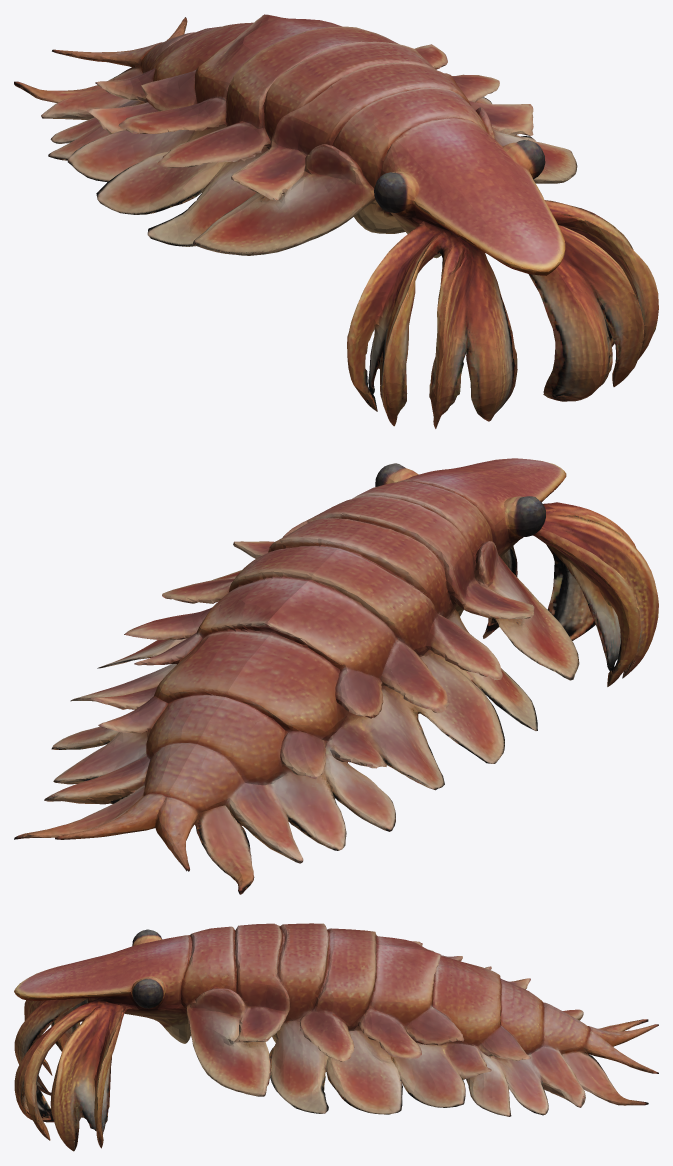
3 renders of one model, top to bottom at view 1: azimuth 30°, elevation 25°; view 2: azimuth 150°, elevation 25°; view 3: azimuth 270°, elevation 25°, orthographic. The views are drawn at different scales.
Visible parts, largest first — view 1: world; view 2: world; view 3: world.
Boxes of the visible parts, x1,y1,x2,y2 form: world: (14,14,658,428); world: (14,458,658,894); world: (14,923,658,1151).
Bounding box in the file's own units: 0.5307 × 0.3007 × 1.
1 material, 1 textured.
